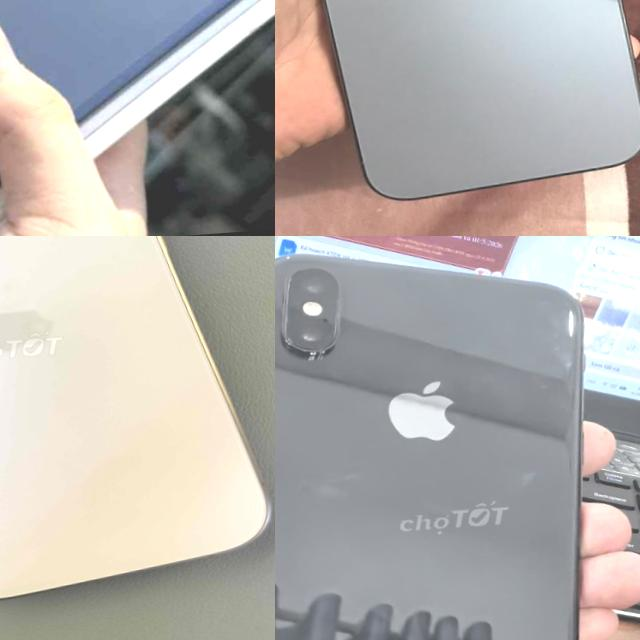gen_12_13: (275, 0, 640, 208)
gen_16: (0, 236, 268, 598)
gen_17: (0, 0, 234, 119)
gen_x_xs: (275, 236, 628, 640)
